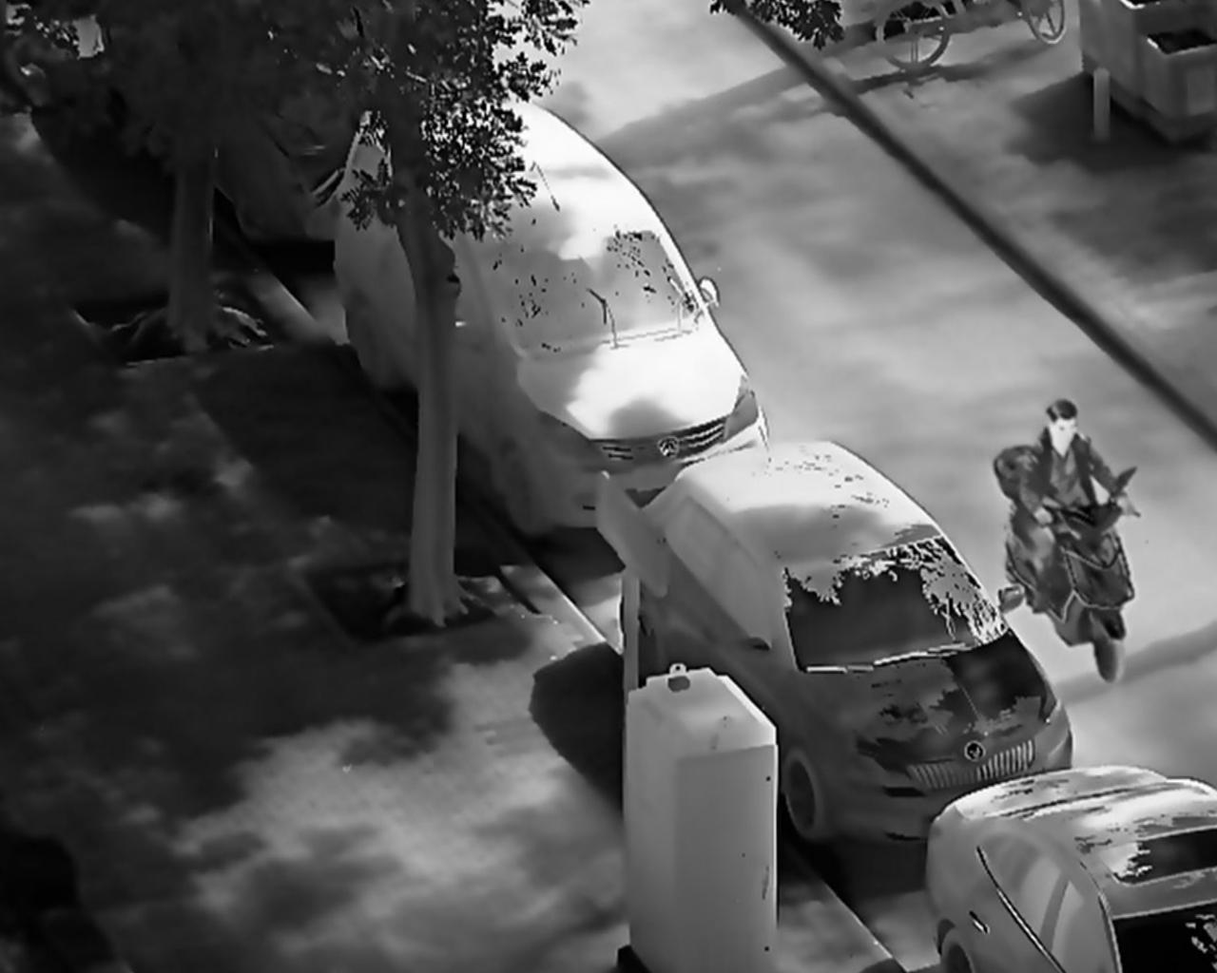person: (1018, 396, 1137, 604)
